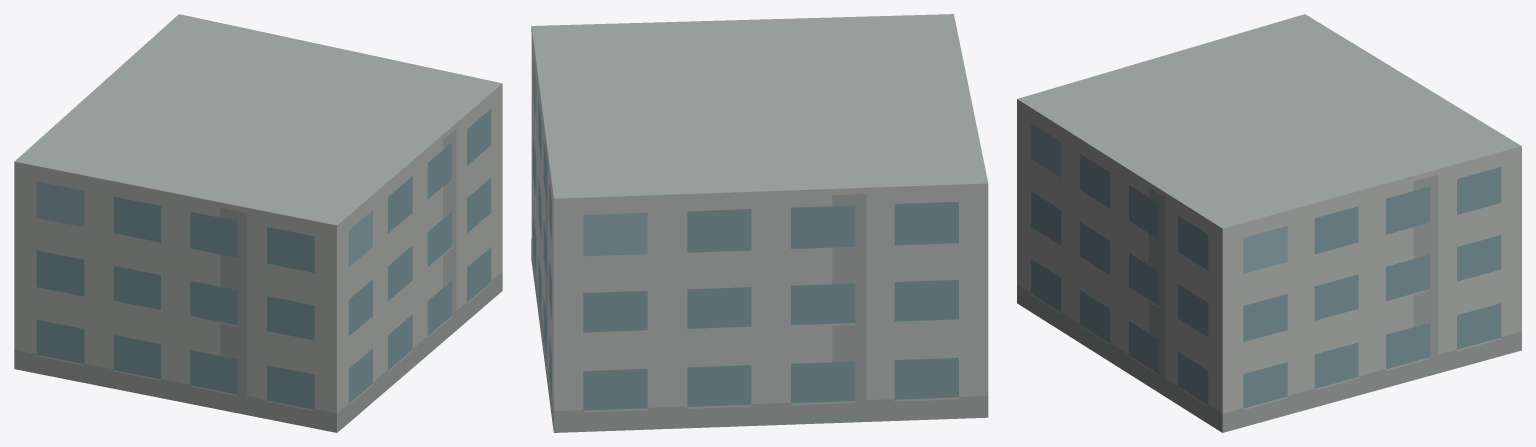
The model's file is survey-upis-32892055.glb.
3 renders of one model, left to right at view 1: azimuth 30°, elevation 25°; view 2: azimuth 150°, elevation 25°; view 3: azimuth 270°, elevation 25°, orthographic. The views are drawn at different scales.
Parts seen in each view (by area): view 1: survey-upis-32892055.tmp; view 2: survey-upis-32892055.tmp; view 3: survey-upis-32892055.tmp.
Boxes of the visible parts, x1,y1,x2,y2 form: survey-upis-32892055.tmp: [14, 14, 502, 432]; survey-upis-32892055.tmp: [531, 14, 988, 432]; survey-upis-32892055.tmp: [1017, 14, 1521, 432].
Bounding box in the file's own units: 20.62 × 9.15 × 20.5.
